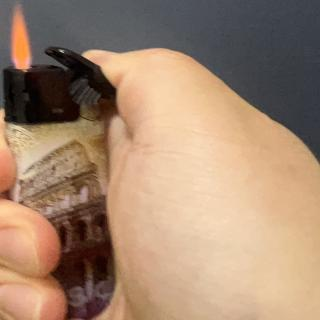fire: (8, 4, 34, 72)
